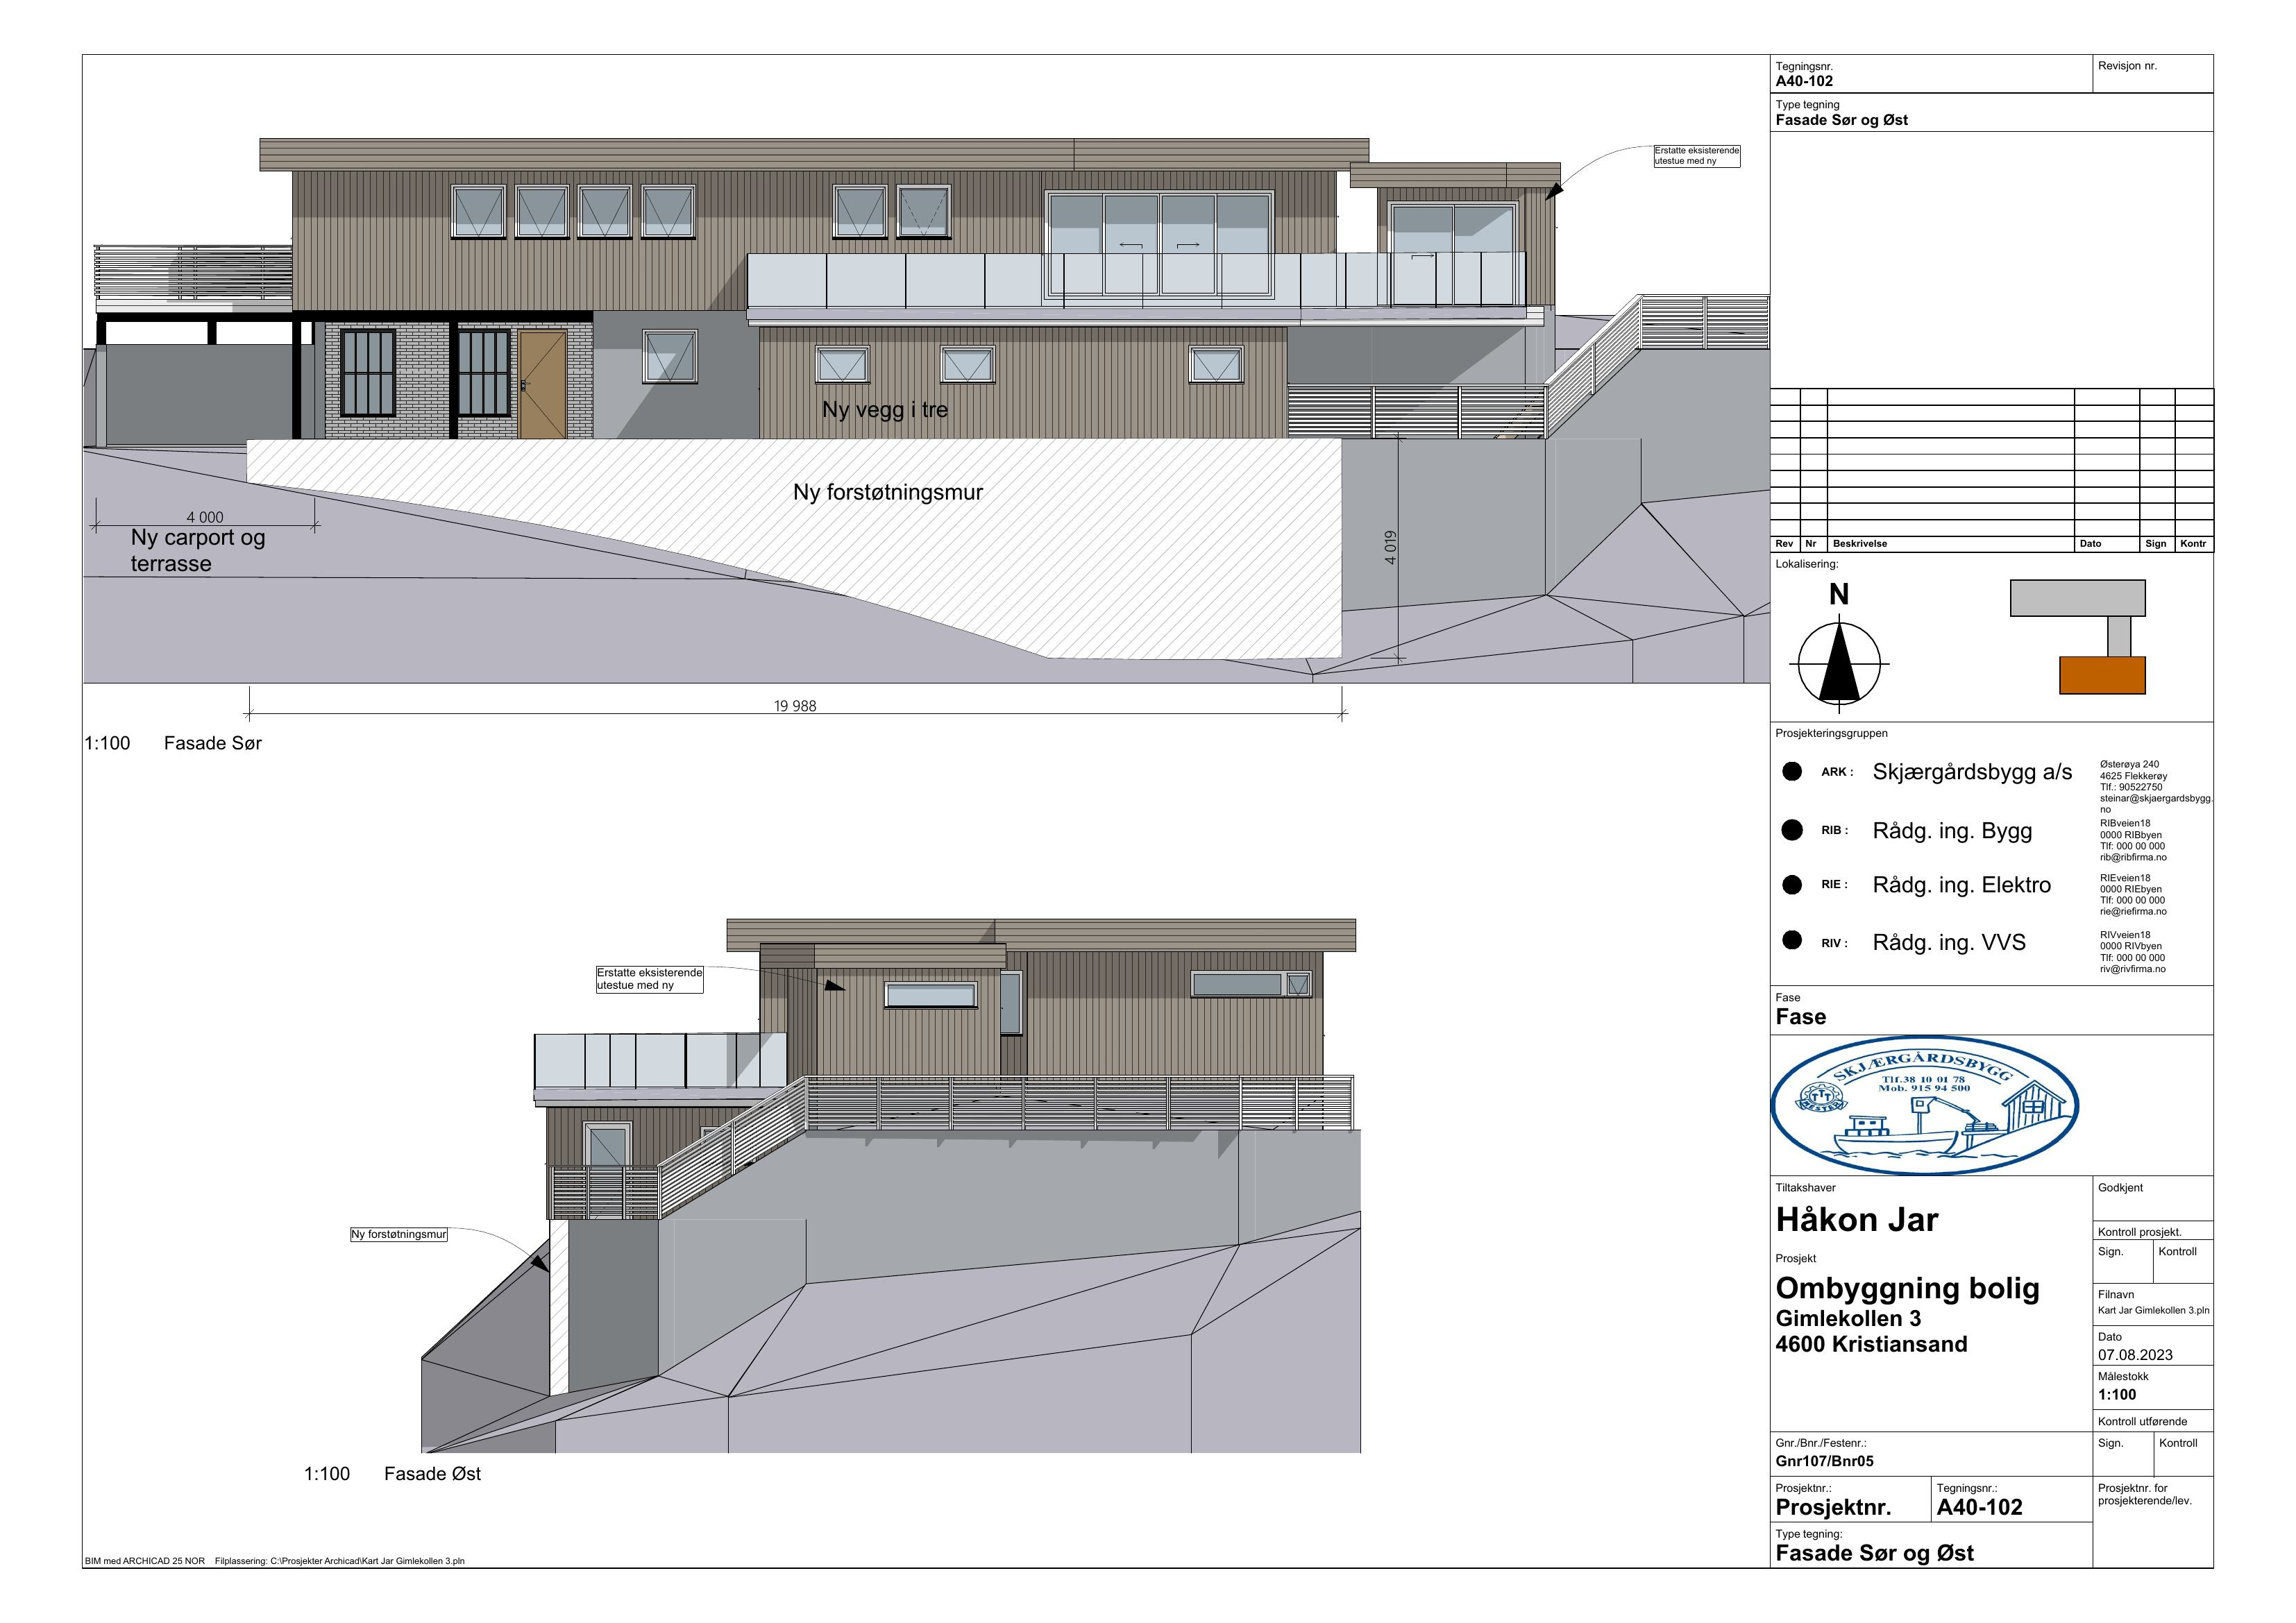fasade: (86, 125, 1627, 450), (529, 887, 1363, 1372)
